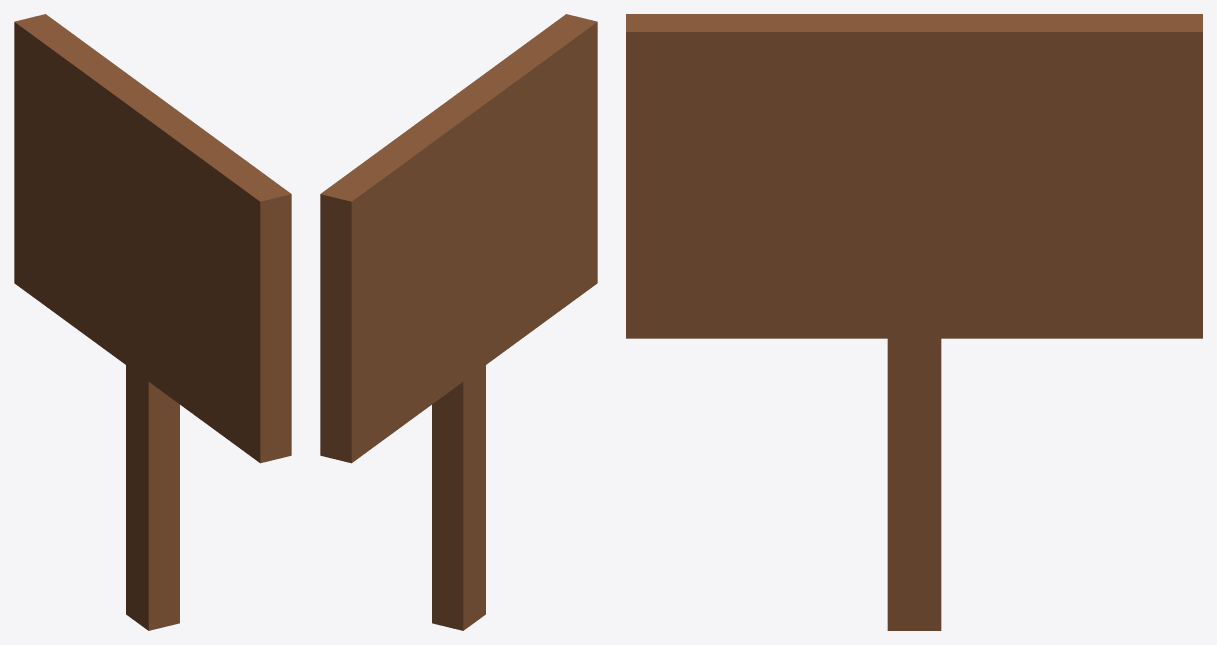
The model's file is Farmer_Stall_Fruit_Sign.fbx.
3 renders of one model, left to right at view 1: azimuth 30°, elevation 25°; view 2: azimuth 150°, elevation 25°; view 3: azimuth 270°, elevation 25°, orthographic. The views are drawn at different scales.
Visible parts, largest first — view 1: Sign; view 2: Sign; view 3: Sign.
Part boxes in pixels (x1,y1,x2,y2): Sign: [14, 14, 291, 630]; Sign: [320, 14, 597, 630]; Sign: [626, 14, 1202, 630].
Bounding box in the file's own units: 0.2595 × 4.03 × 3.51.
